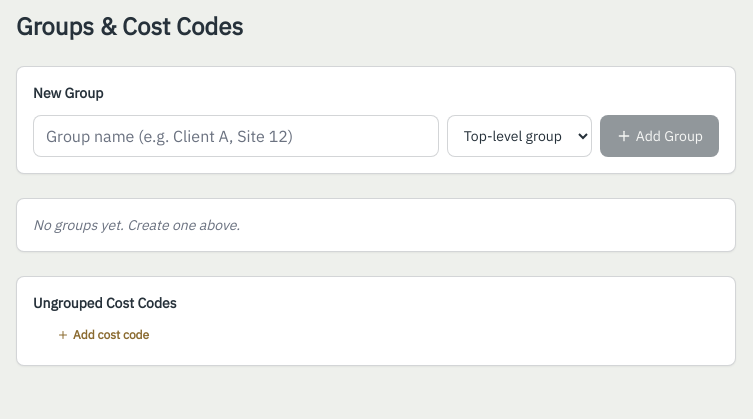
GroupsAndCodes › adds an ungrouped cost code
Click the button "Add cost code": (91, 335) [33, 321, 149, 349]
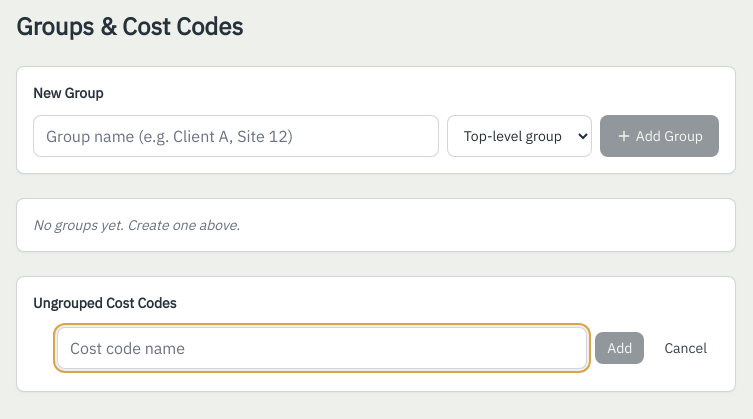
In the field with placeholder "Cost code name": (322, 348) [57, 327, 587, 369], type "Bank Fees"
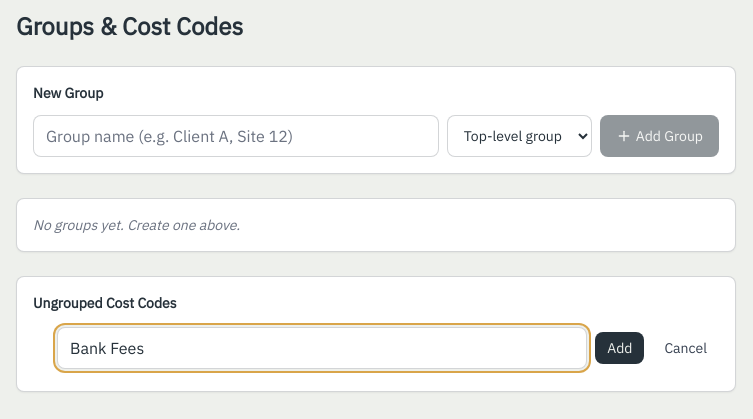
Click the button "Add": (620, 348) [595, 332, 644, 364]
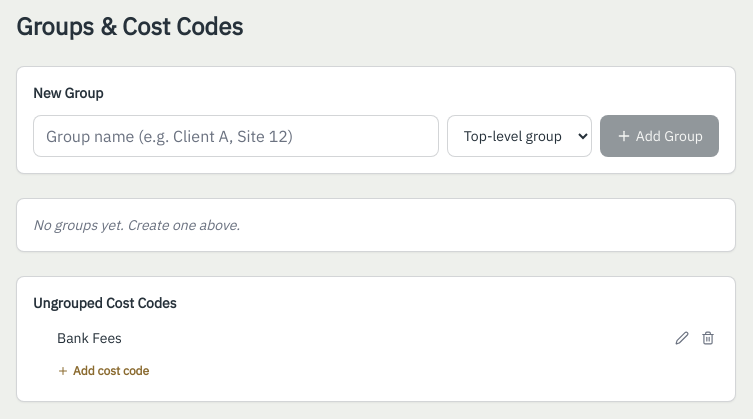
Result: the text "Bank Fees" is shown at [57, 328, 122, 348]
